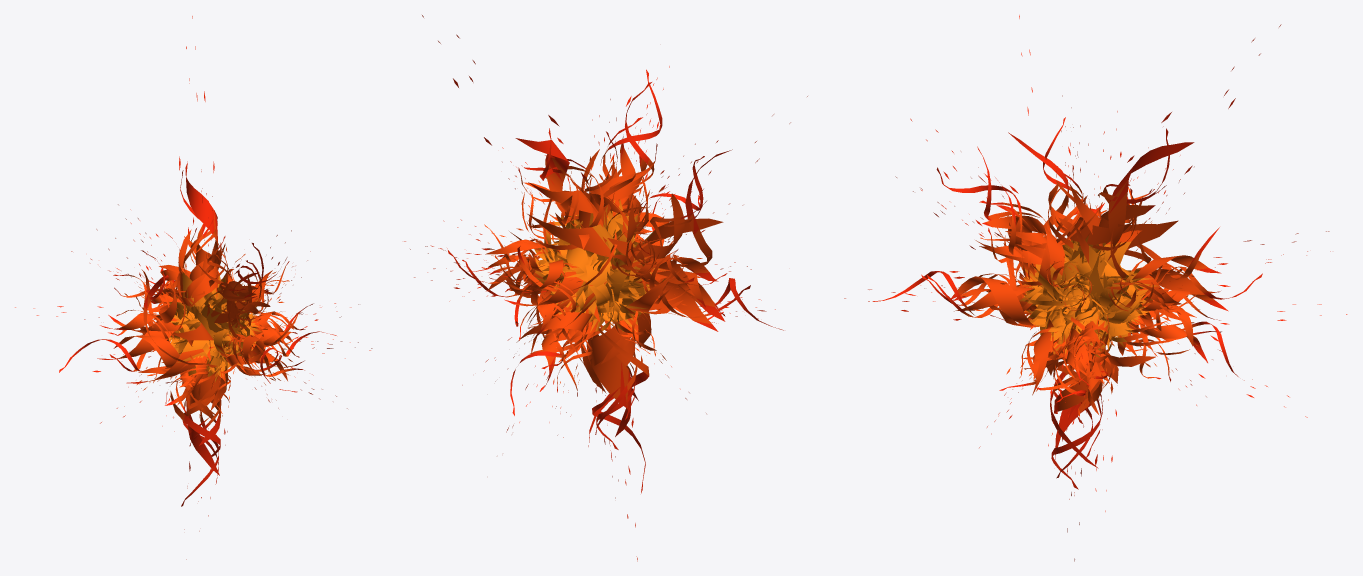
The model's file is fireball_16.obj.
3 renders of one model, left to right at view 1: azimuth 30°, elevation 25°; view 2: azimuth 150°, elevation 25°; view 3: azimuth 270°, elevation 25°, orthographic. The views are drawn at different scales.
Parts seen in each view (by area): view 1: Fireball; view 2: Fireball; view 3: Fireball.
Part boxes in pixels (box(x1,y1,x2,y2)): Fireball: box(15, 16, 372, 559); Fireball: box(404, 15, 807, 561); Fireball: box(844, 15, 1347, 561).
Bounding box in the file's own units: 1.72 × 2.27 × 1.76.
